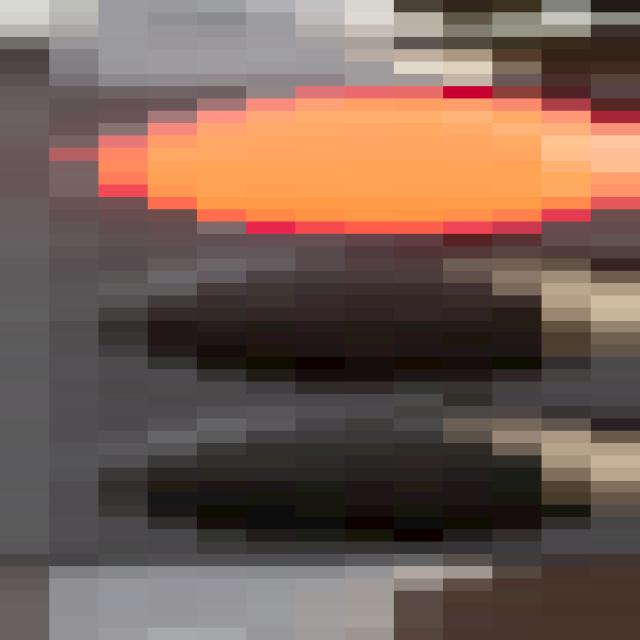red_light: (2, 77, 640, 580)
